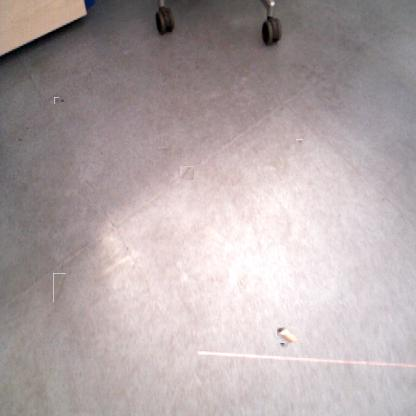dirty: (278, 326, 296, 344)
mark: (53, 273, 66, 302), (180, 166, 194, 180), (160, 143, 170, 153), (16, 134, 24, 142), (296, 139, 303, 145), (379, 197, 385, 203), (54, 97, 59, 104), (25, 124, 29, 132), (61, 96, 66, 102)
